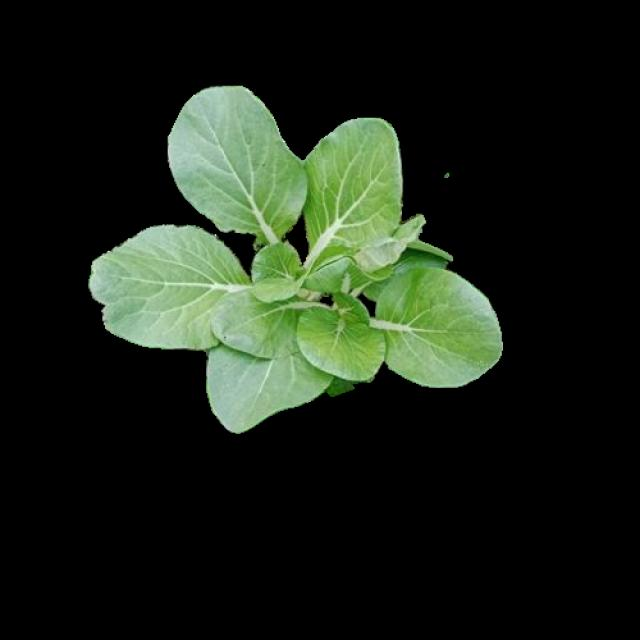healthy: (93, 108, 498, 426)
not-mature: (93, 92, 500, 429)
